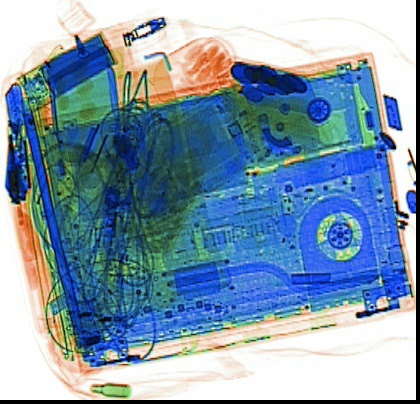powerbank: (14, 25, 115, 112)
